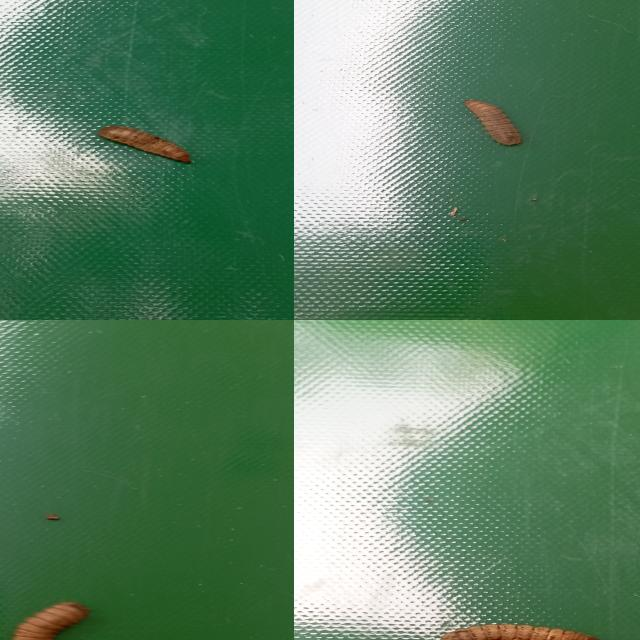Maggot: (96, 127, 193, 165), (12, 602, 88, 640), (466, 100, 523, 148), (438, 624, 602, 640)
